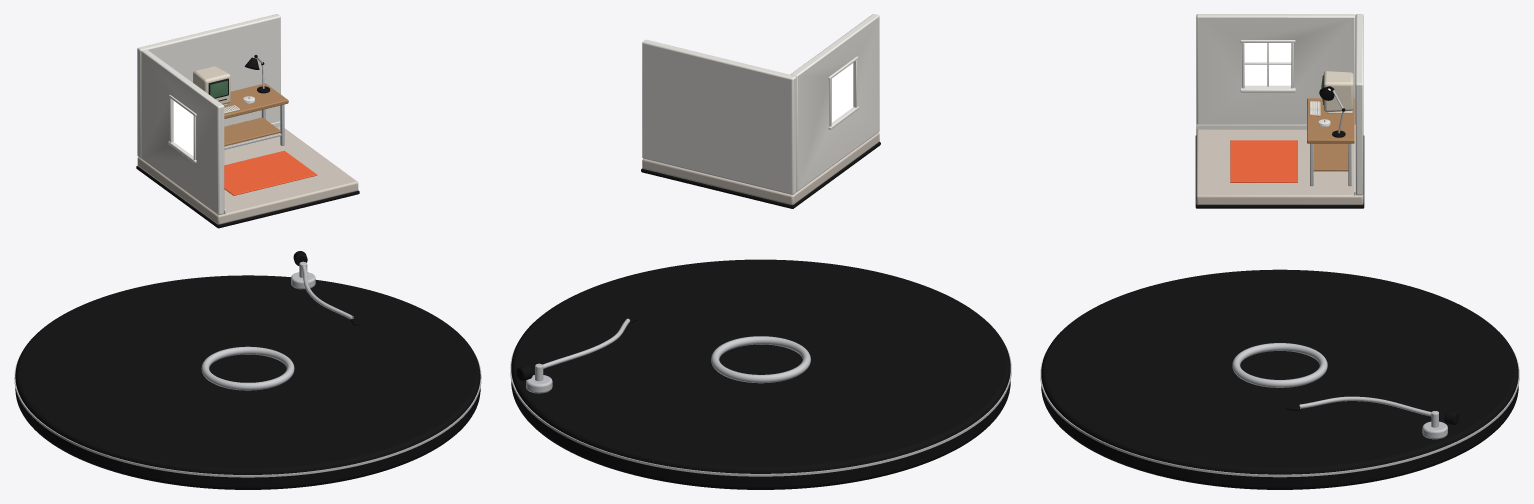
File: atelier.glb
The picture shows the model from 3 angles, left to right: view 1: azimuth 30°, elevation 25°; view 2: azimuth 150°, elevation 25°; view 3: azimuth 270°, elevation 25°; orthographic projection. The views are drawn at different scales.
Parts seen in each view (by area): view 1: Platine_socle, Mur_gauche, Mur_fond, Plancher, Tapis, Platine_lisere, Platine_berceau, Etabli_plateau, Etabli_tablette, Plancher_tranche, Vitre, Ordi_corps; view 2: Platine_socle, Mur_fond, Mur_gauche, Plancher, Platine_lisere, Platine_berceau, Plancher_tranche, Vitre; view 3: Platine_socle, Mur_gauche, Plancher, Tapis, Vitre, Platine_lisere, Platine_berceau, Mur_fond, Etabli_plateau, Ordi_corps, Etabli_tablette, Plancher_tranche (+2 smaller).
Part boxes in pixels (x1,y1,x2,y2): Platine_socle: (15, 275, 480, 489); Mur_gauche: (141, 49, 224, 215); Mur_fond: (137, 14, 280, 158); Plancher: (137, 126, 358, 224); Tapis: (224, 150, 317, 195); Platine_lisere: (14, 351, 481, 477); Platine_berceau: (201, 346, 294, 390); Etabli_plateau: (224, 83, 288, 118); Etabli_tablette: (224, 117, 280, 146); Plancher_tranche: (136, 166, 359, 228); Vitre: (173, 101, 193, 156); Ordi_corps: (193, 66, 230, 104); Platine_socle: (511, 259, 1010, 489); Mur_fond: (642, 39, 796, 194); Mur_gauche: (790, 14, 879, 191); Plancher: (642, 132, 879, 204); Platine_lisere: (510, 341, 1011, 476); Platine_berceau: (711, 336, 810, 383); Plancher_tranche: (641, 141, 880, 208); Vitre: (832, 63, 853, 122); Platine_socle: (1041, 269, 1518, 489); Mur_gauche: (1196, 14, 1355, 124); Plancher: (1196, 129, 1363, 204); Tapis: (1230, 140, 1297, 182); Vitre: (1244, 43, 1291, 85); Platine_lisere: (1040, 349, 1519, 477); Platine_berceau: (1232, 343, 1327, 387); Mur_fond: (1355, 14, 1363, 195); Etabli_plateau: (1307, 98, 1354, 143); Ordi_corps: (1323, 71, 1353, 112); Etabli_tablette: (1313, 143, 1348, 171); Plancher_tranche: (1195, 135, 1364, 208).
Bounding box in the file's own units: 6.02 × 4.79 × 6.02.
